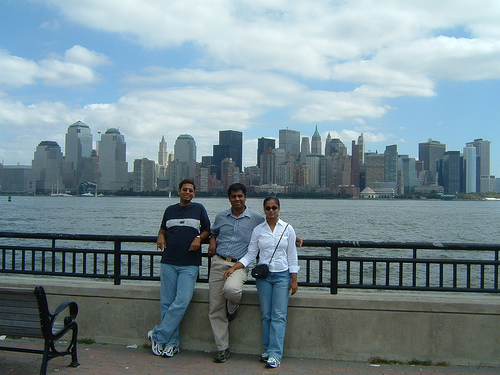without_mask: (263, 197, 280, 221), (228, 188, 247, 209), (178, 182, 196, 204)
